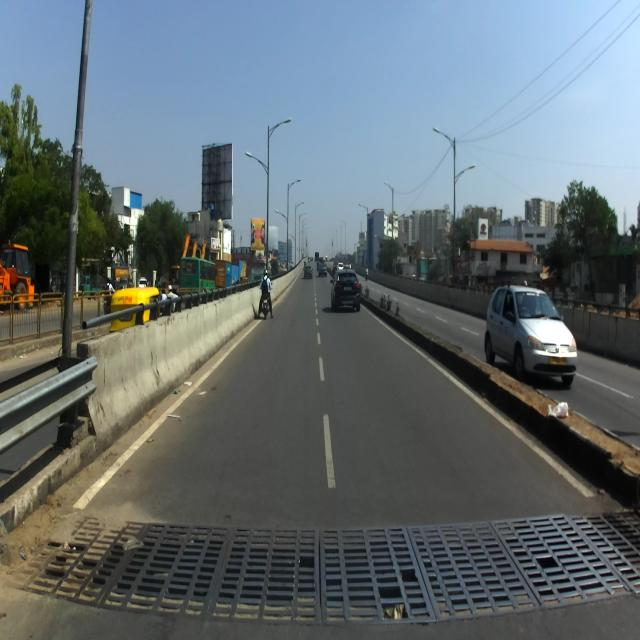car ahead at: (490, 277, 580, 385)
